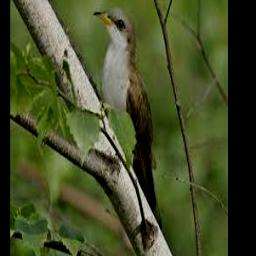Cuckoo: (94, 7, 162, 231)
